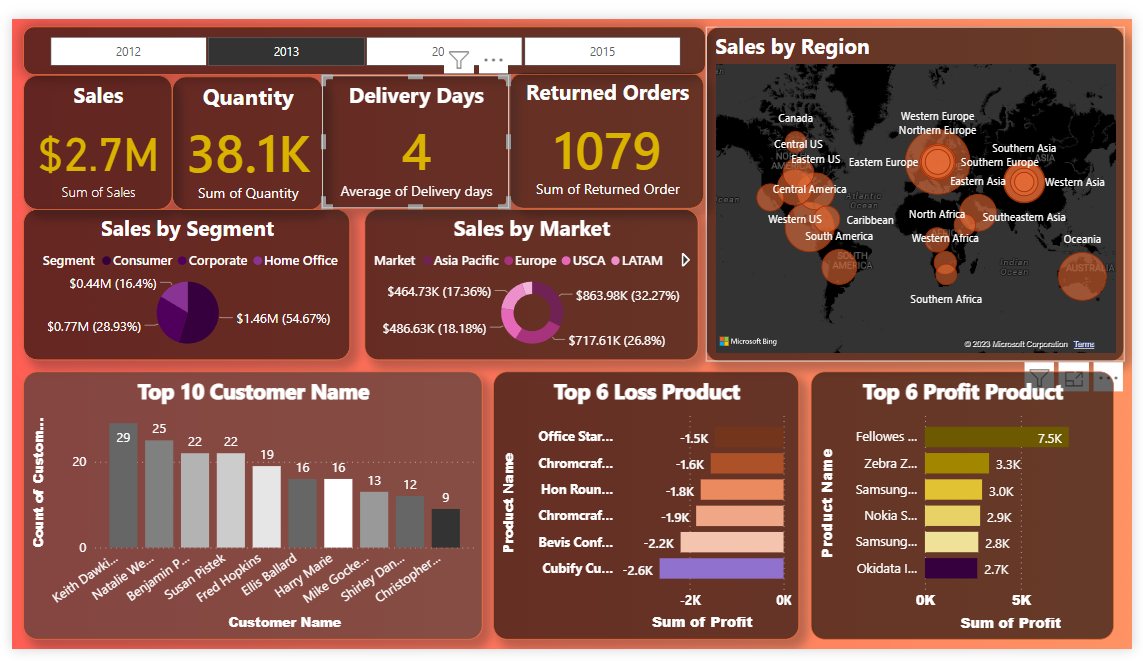

What the dashboard file says about the page in this screenshot:
{"tool":"powerbi","page":{"name":"Page 1","canvas":[1280,720],"ordinal":0},"visuals":[{"type":"card","title":"Sales","fields":{"Values":["Sum(Orders.Sales)"]},"box":[12.5,63.8,170,153.8],"z":0},{"type":"card","title":"Quantity","fields":{"Values":["Sum(Orders.Quantity)"]},"box":[182.5,65,172.5,152.5],"z":1000},{"type":"card","title":"Returned Orders","fields":{"Values":["Sum(Returns.Returned Order)"]},"box":[568.8,61.2,222.5,155],"z":2000},{"type":"slicer","fields":{"Values":["Orders.Year"]},"box":[12.5,8.8,780,55],"z":3000},{"type":"card","title":"Delivery Days","fields":{"Values":["Avg(Orders.Delivary days)"]},"box":[355,63.8,213.8,152.5],"z":4000},{"type":"map","title":" Sales by Region","fields":{"Category":["Orders.Region"],"Size":["Sum(Orders.Sales)"]},"box":[793.3,8.3,478.3,383.3],"z":5000},{"type":"clusteredBarChart","title":"Top 6 Loss Product ","fields":{"Category":["Orders.Product Name"],"Y":["Sum(Orders.Profit)"]},"box":[550.3,403.4,349.9,306],"z":6000},{"type":"clusteredBarChart","title":"Top 6 Profit Product","fields":{"Category":["Orders.Product Name"],"Y":["Sum(Orders.Profit)"]},"box":[913.3,403.3,346.7,306.7],"z":7000},{"type":"pieChart","title":" Sales by Segment","fields":{"Category":["Orders.Segment"],"Y":["Sum(Orders.Sales)"]},"box":[12.5,217.5,373.8,172.5],"z":8000},{"type":"donutChart","title":" Sales by Market","fields":{"Category":["Orders.Market"],"Y":["Sum(Orders.Sales)"]},"box":[402.5,217.5,381.2,172.5],"z":9000},{"type":"columnChart","title":"Top 10 Customer Name ","fields":{"Y":["CountNonNull(Orders.Customer Name)"],"Category":["Orders.Customer Name"]},"box":[12.5,402.5,525,306.2],"z":10000}]}

Visuals, with their boxes in screenshot pixels (x1, y1, x2, y2), scaled from the page's 1280x720 canvas onto the 1143x661 screenshot:
"Sales" card: <region>11, 59, 163, 200</region>
"Quantity" card: <region>163, 60, 317, 200</region>
"Returned Orders" card: <region>508, 56, 707, 198</region>
slicer - Orders.Year: <region>11, 8, 708, 59</region>
"Delivery Days" card: <region>317, 59, 508, 199</region>
" Sales by Region" map: <region>708, 8, 1135, 360</region>
"Top 6 Loss Product " clusteredBarChart: <region>491, 370, 804, 651</region>
"Top 6 Profit Product" clusteredBarChart: <region>816, 370, 1125, 652</region>
" Sales by Segment" pieChart: <region>11, 200, 345, 358</region>
" Sales by Market" donutChart: <region>359, 200, 700, 358</region>
"Top 10 Customer Name " columnChart: <region>11, 370, 480, 651</region>
